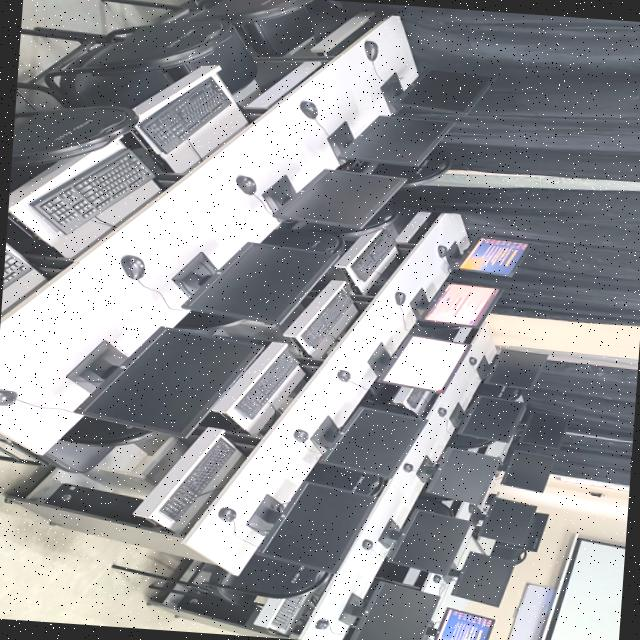Chair: (100, 0, 311, 93), (16, 20, 240, 107), (112, 554, 328, 605), (10, 106, 137, 165), (41, 416, 153, 472), (243, 6, 313, 56), (371, 151, 450, 187), (304, 462, 384, 495), (335, 207, 396, 240), (262, 229, 343, 252), (175, 311, 236, 328), (489, 544, 525, 564), (475, 383, 519, 399), (447, 434, 493, 449)
Cpu: (42, 483, 154, 527), (170, 593, 255, 625)
Keyboard: (29, 149, 151, 233), (135, 77, 231, 153), (158, 438, 236, 521), (234, 349, 297, 418), (300, 288, 351, 348), (350, 229, 394, 280), (267, 593, 311, 633), (1, 249, 32, 289), (406, 389, 424, 407)
Monitor: (67, 326, 261, 436), (172, 241, 333, 325), (257, 480, 376, 573), (262, 168, 402, 229), (319, 405, 426, 479), (327, 115, 450, 168), (377, 508, 470, 575), (349, 579, 439, 640), (380, 70, 494, 115), (416, 446, 497, 505), (380, 336, 466, 391), (416, 282, 499, 328), (447, 395, 524, 442), (450, 551, 513, 607), (453, 237, 528, 277), (477, 496, 535, 547), (497, 442, 554, 492), (483, 349, 547, 389), (516, 408, 566, 449), (433, 608, 493, 640), (522, 512, 548, 551)
